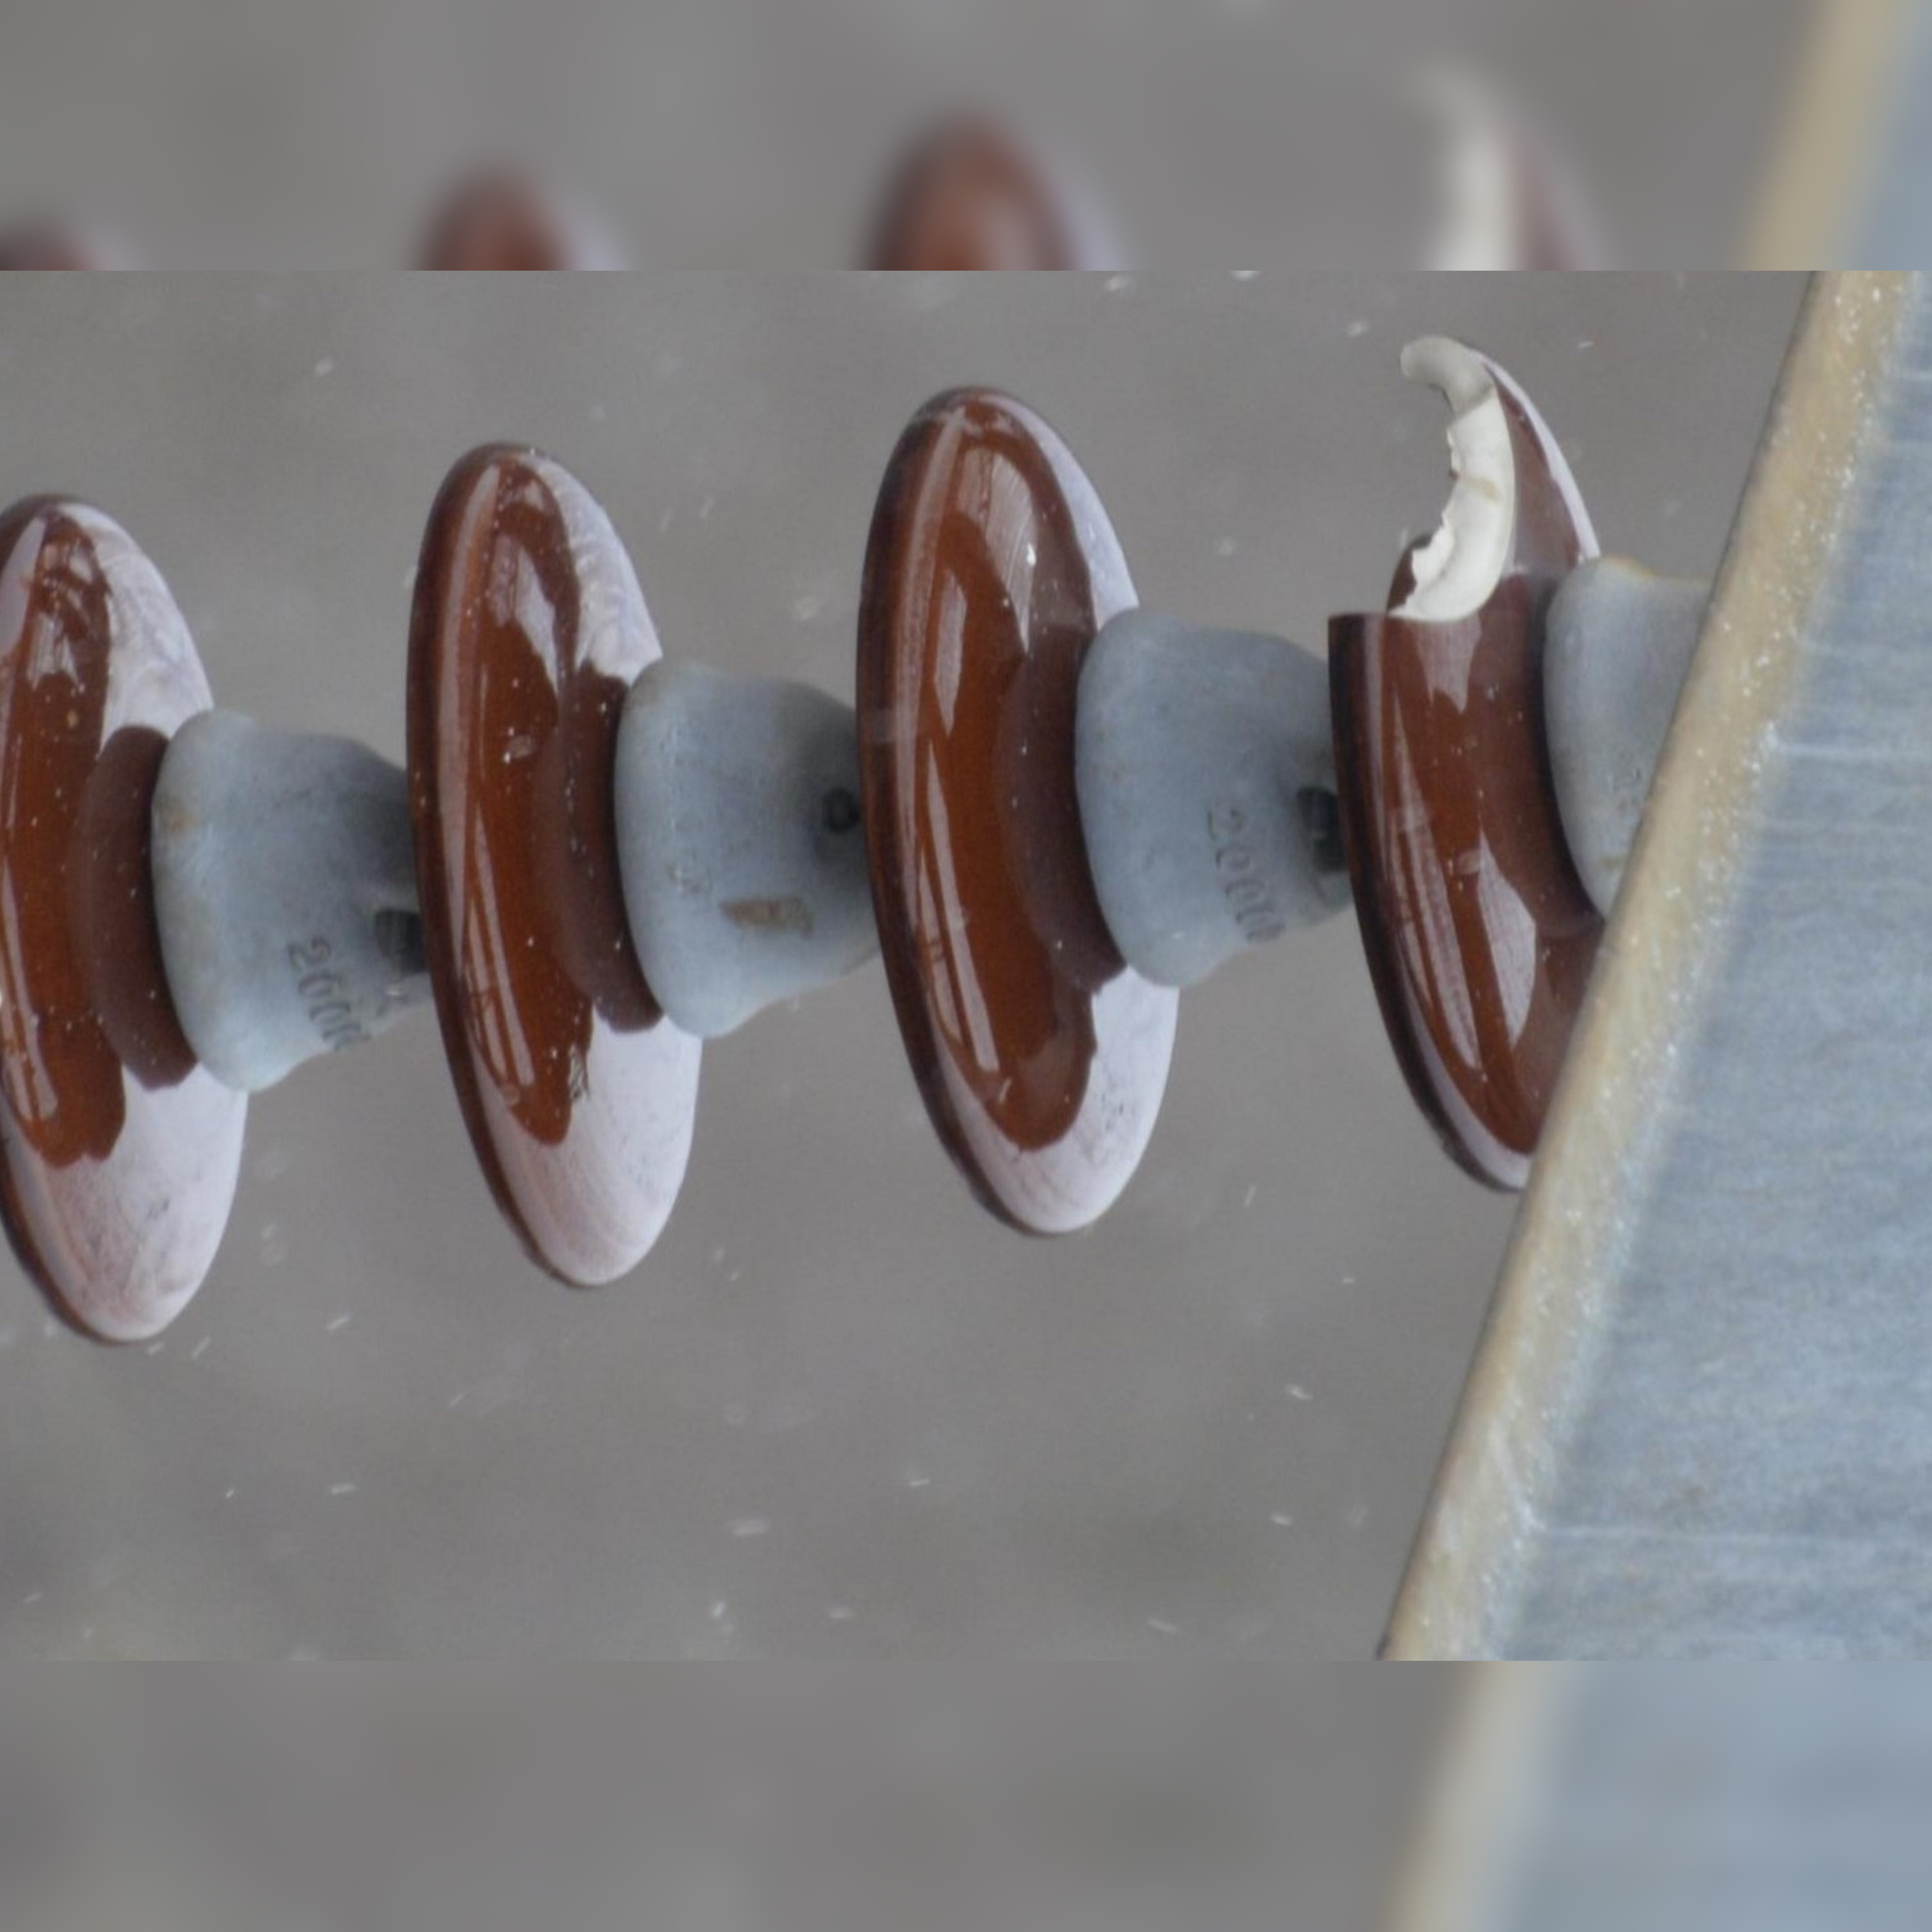insulator breakage: (1306, 303, 1658, 1210)
